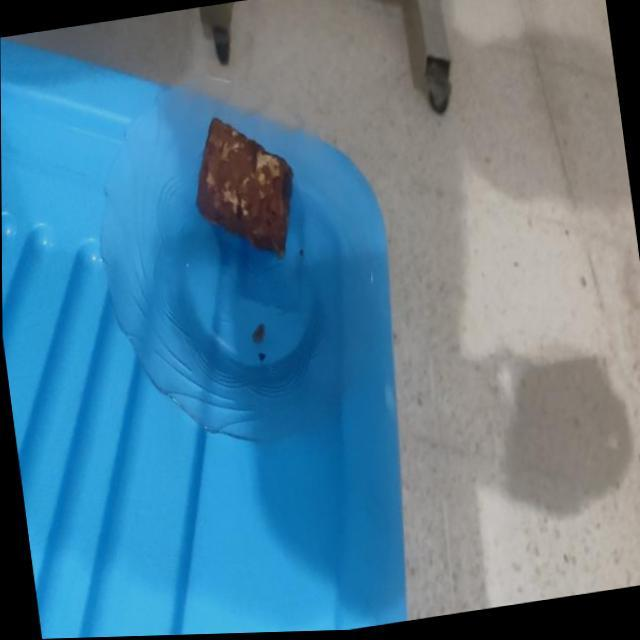tempe_goreng: (196, 118, 292, 258)
